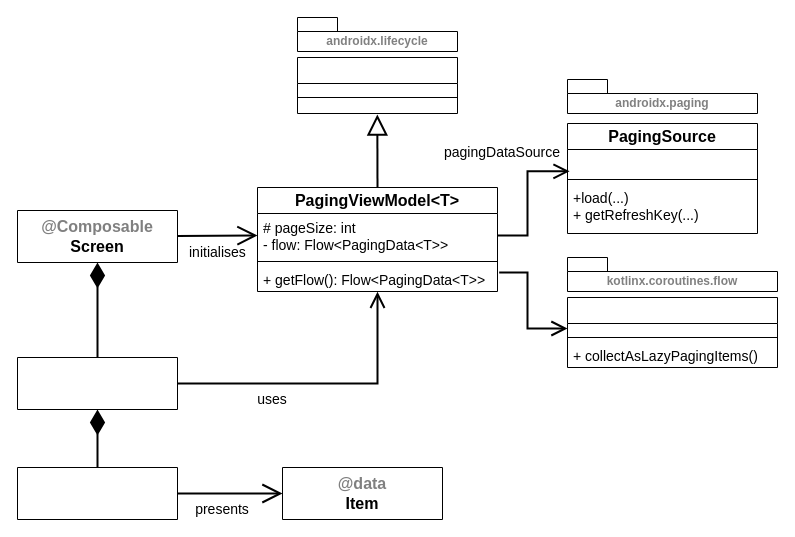
Image size: 795x537. Some labels were removed from this diagram. The box of each missing label's shape, as (x1, y1, x2, y2) in pixels:
@Composable ItemsView: (16, 356, 178, 410)
@Composable ItemView: (16, 466, 178, 520)
Flow: (566, 296, 778, 368)
ViewModel: (296, 56, 458, 114)
